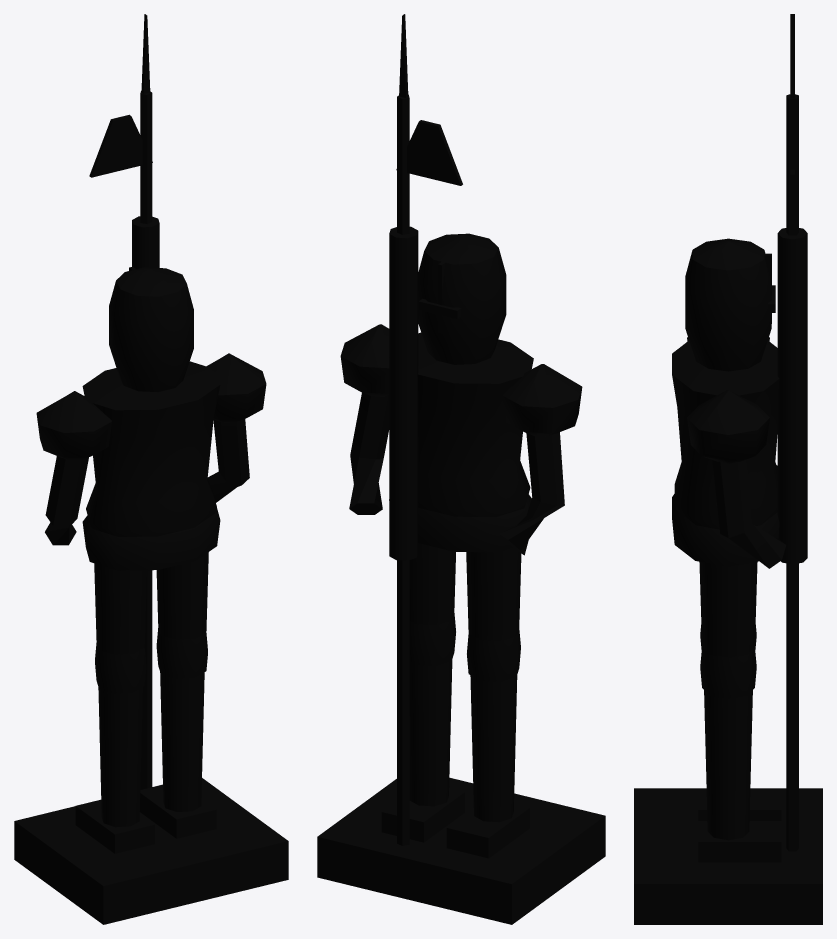
The model's file is SM_suit_of_armour.fbx.
3 renders of one model, left to right at view 1: azimuth 30°, elevation 25°; view 2: azimuth 150°, elevation 25°; view 3: azimuth 270°, elevation 25°, orthographic. The views are drawn at different scales.
Parts seen in each view (by area): view 1: suit_of_armour, suit_of_armour_helm; view 2: suit_of_armour, suit_of_armour_helm; view 3: suit_of_armour, suit_of_armour_helm.
Boxes of the visible parts, left/top/right/bottom form: suit_of_armour: left=14, top=14, right=288, bottom=924; suit_of_armour_helm: left=109, top=266, right=193, bottom=391; suit_of_armour: left=317, top=14, right=605, bottom=924; suit_of_armour_helm: left=418, top=233, right=506, bottom=364; suit_of_armour: left=634, top=14, right=822, bottom=924; suit_of_armour_helm: left=685, top=238, right=775, bottom=371.
Bounding box in the file's own units: 0.72 × 2.56 × 0.5.
